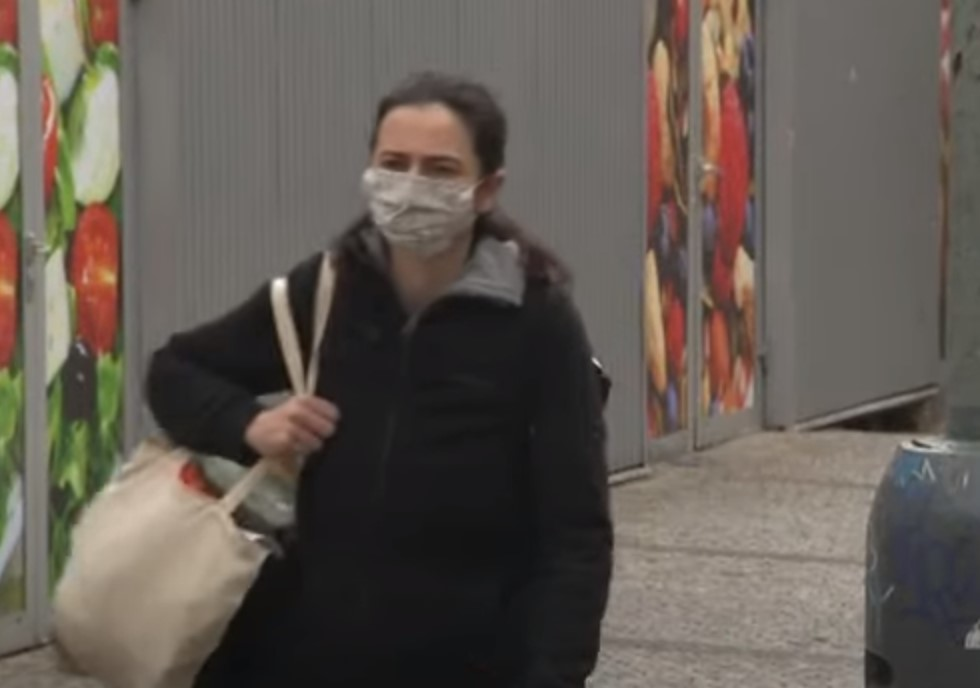face_with_mask: (365, 102, 491, 264)
